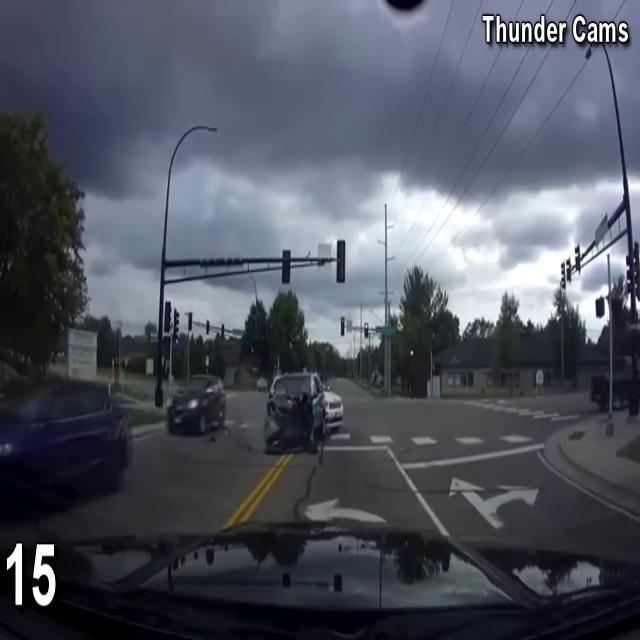accident: (263, 369, 333, 461)
